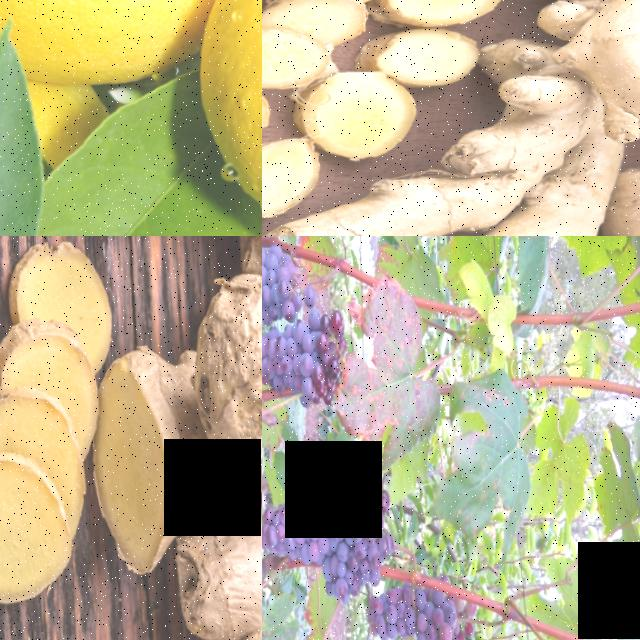ginger: (487, 0, 640, 236), (190, 236, 262, 514)
grapes: (262, 463, 390, 589), (262, 322, 353, 407), (370, 588, 461, 640), (262, 238, 295, 325)
lemon: (0, 0, 214, 97), (198, 0, 262, 236)
